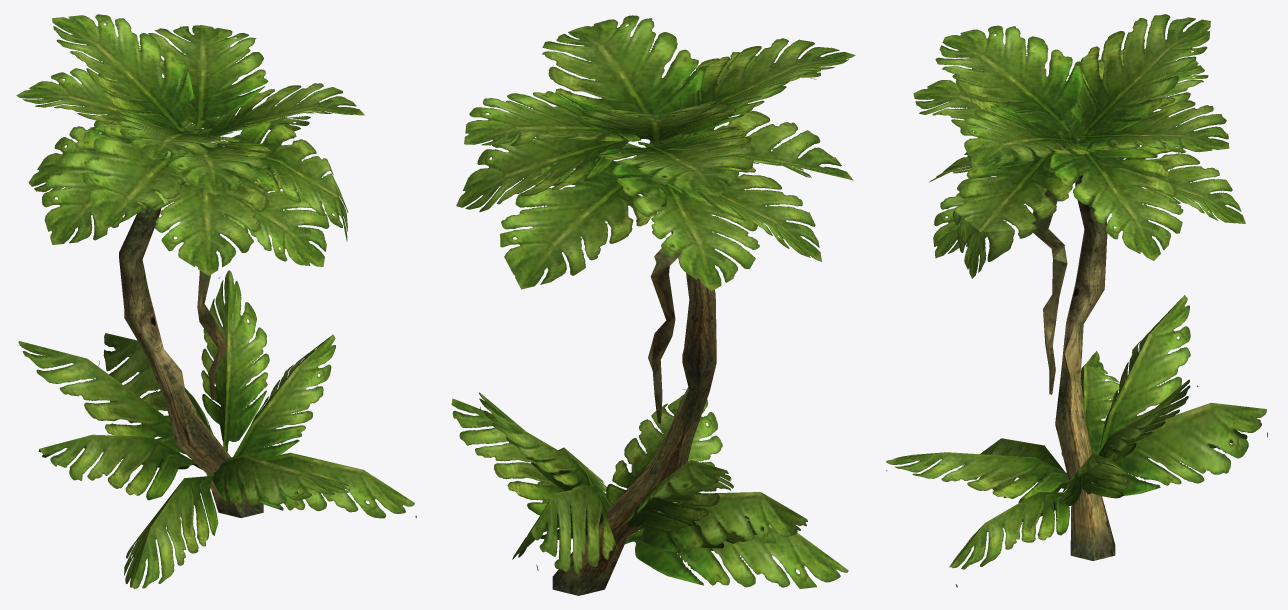
Rendered from S_Tree_Green077.FBX.
3 views of the same model, side by side, from view 1: azimuth 30°, elevation 25°; view 2: azimuth 150°, elevation 25°; view 3: azimuth 270°, elevation 25° (orthographic). The views are drawn at different scales.
Parts seen in each view (by area): view 1: S_Tree_Green077; view 2: S_Tree_Green077; view 3: S_Tree_Green077.
Part boxes in pixels (x1,y1,x2,y2): S_Tree_Green077: [16, 14, 416, 588]; S_Tree_Green077: [451, 15, 855, 595]; S_Tree_Green077: [886, 14, 1267, 587].
Size of the model in its own units: 248 by 367 by 277.
